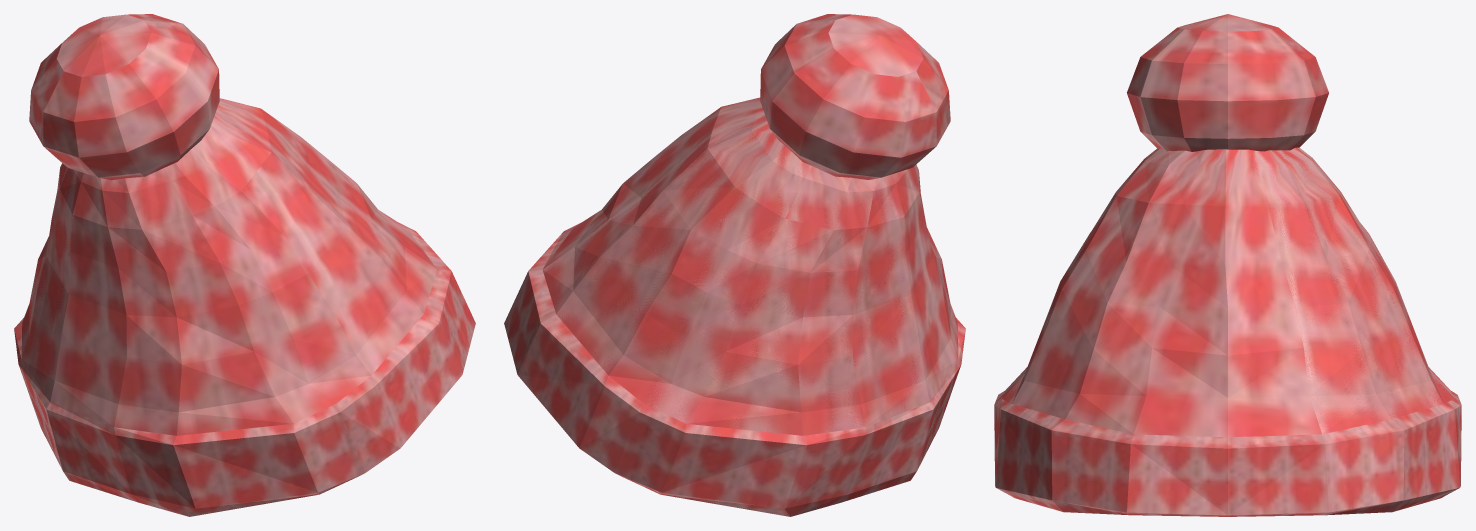
File: HEART POMPOM HAT.fbx
3 views of the same model, side by side, from view 1: azimuth 30°, elevation 25°; view 2: azimuth 150°, elevation 25°; view 3: azimuth 270°, elevation 25° (orthographic).
Parts seen in each view (by area): view 1: HEART_POMPOM_HAT; view 2: HEART_POMPOM_HAT; view 3: HEART_POMPOM_HAT.
Boxes of the visible parts, x1,y1,x2,y2 form: HEART_POMPOM_HAT: (14,14,475,516); HEART_POMPOM_HAT: (504,14,965,516); HEART_POMPOM_HAT: (994,14,1461,516).
Size of the model in its own units: 30.52 by 33.2 by 31.29.
